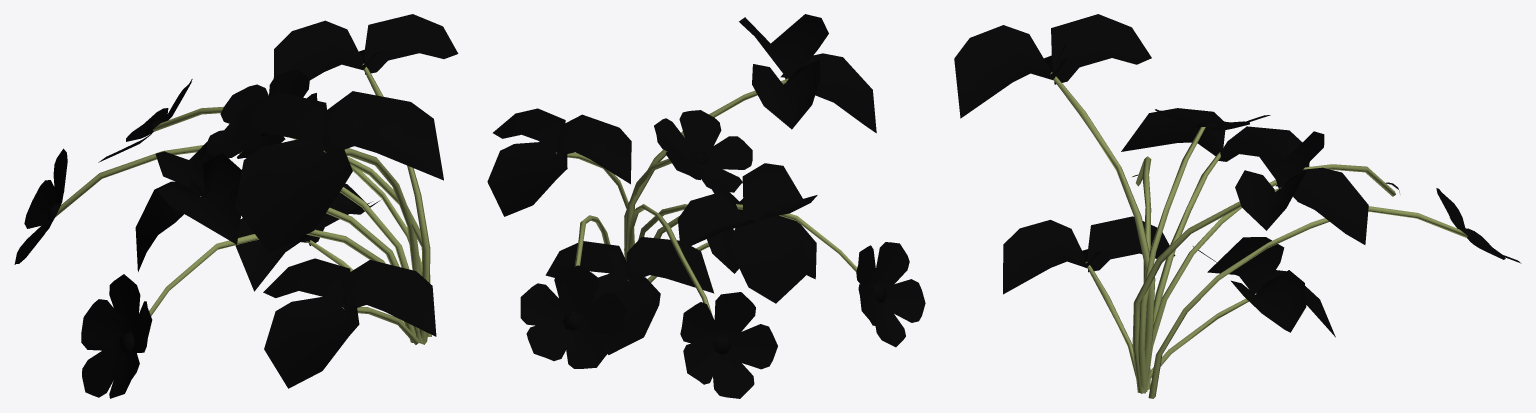
The model's file is flowering_strawberry.gltf.
The picture shows the model from 3 angles, left to right: view 1: azimuth 30°, elevation 25°; view 2: azimuth 150°, elevation 25°; view 3: azimuth 270°, elevation 25°; orthographic projection. The views are drawn at different scales.
Parts seen in each view (by area): view 1: Strawberry_flowering; view 2: Strawberry_flowering; view 3: Strawberry_flowering.
Boxes of the visible parts, x1,y1,x2,y2 form: Strawberry_flowering: (14,14,458,398); Strawberry_flowering: (487,14,925,398); Strawberry_flowering: (954,14,1521,398).
Size of the model in its own units: 0.2657 by 0.1819 by 0.3159.
